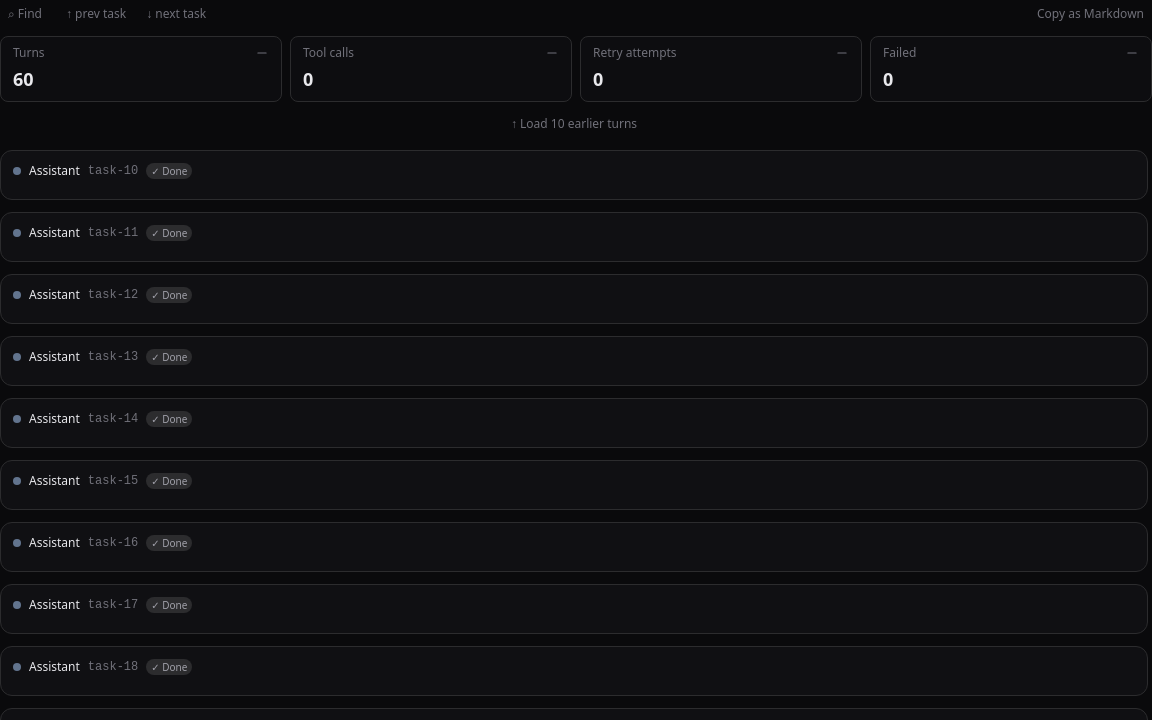
Test: ConversationTimeline rendering › windows to the newest 50 turns via ConversationWindow with load-earlier
Click the button with test id "window-load-earlier" at (574, 124), box x1=0 y1=110 x2=1148 y2=138
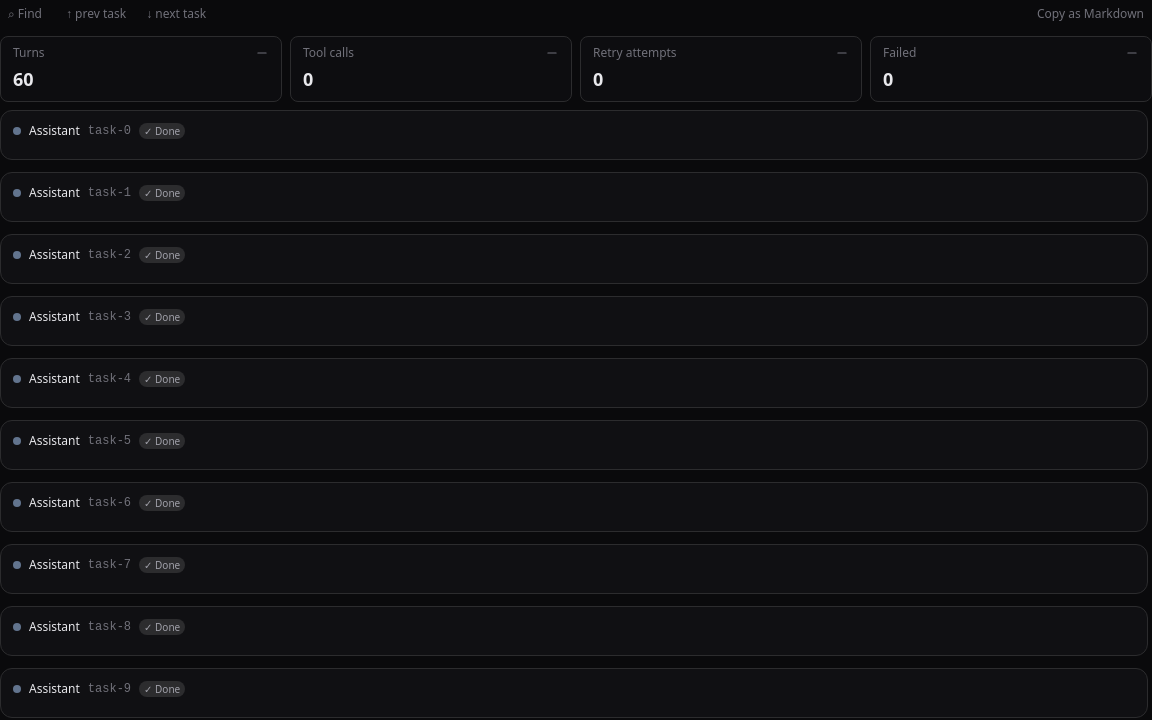
Check: the number of elements with test id "turn-group" is 60
Check: the button with test id "window-load-earlier" is gone
